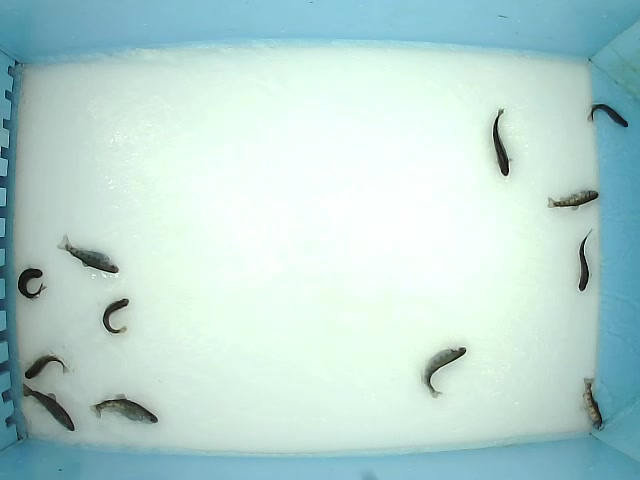fish: (22, 383, 76, 432), (56, 233, 120, 274), (420, 346, 468, 400), (88, 393, 158, 425), (491, 107, 511, 178), (24, 352, 71, 380), (546, 188, 600, 212), (582, 376, 604, 431), (17, 264, 48, 302), (586, 103, 629, 129), (577, 228, 593, 293), (102, 298, 130, 334)
